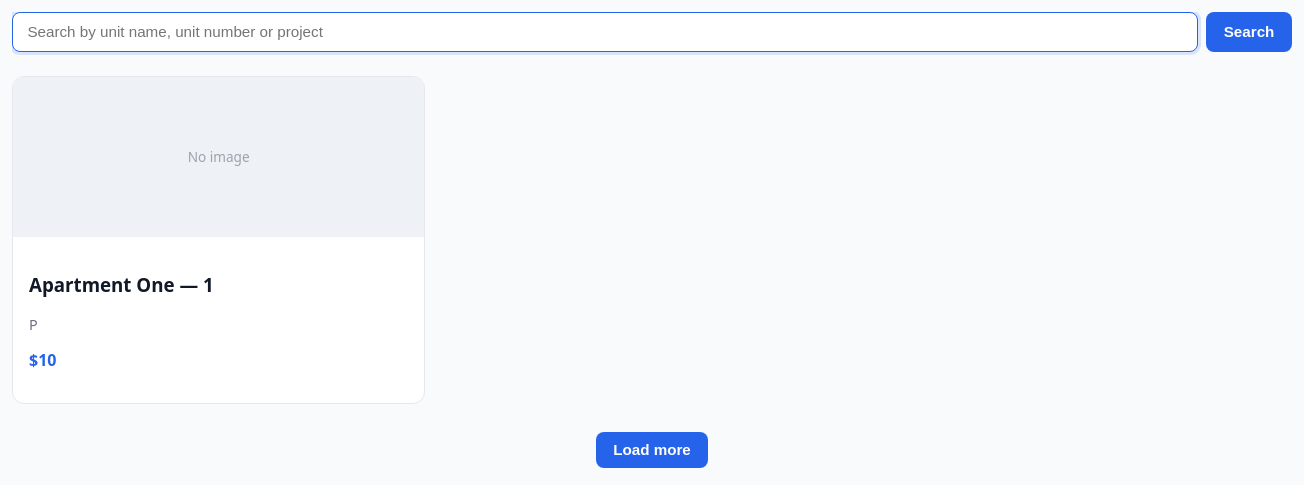
ApartmentList search › appends the next page to the existing results instead of replacing them
The width and height of the screenshot is (1304, 485).
Check: the heading "Apartment One — 1" is shown, box [29,272,214,296]
Step 1. Click the button "Load more" → [652, 450], box [596,432,708,468]
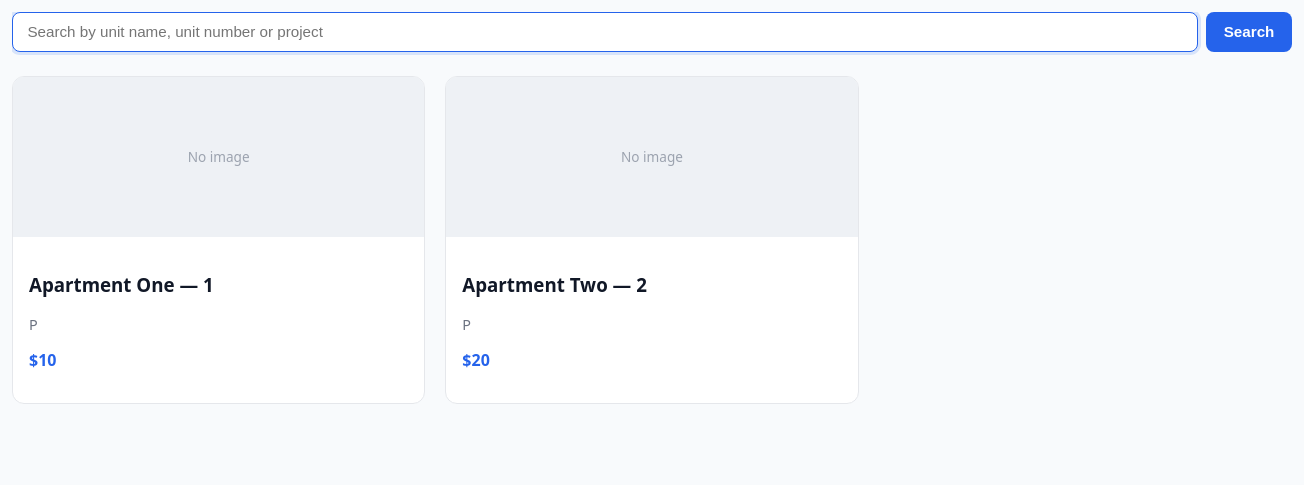
Check: the heading "Apartment One — 1" is shown, box [29,272,214,296]
Check: the heading "Apartment Two — 2" is shown, box [462,272,647,296]
Check: the button "Load more" is gone
